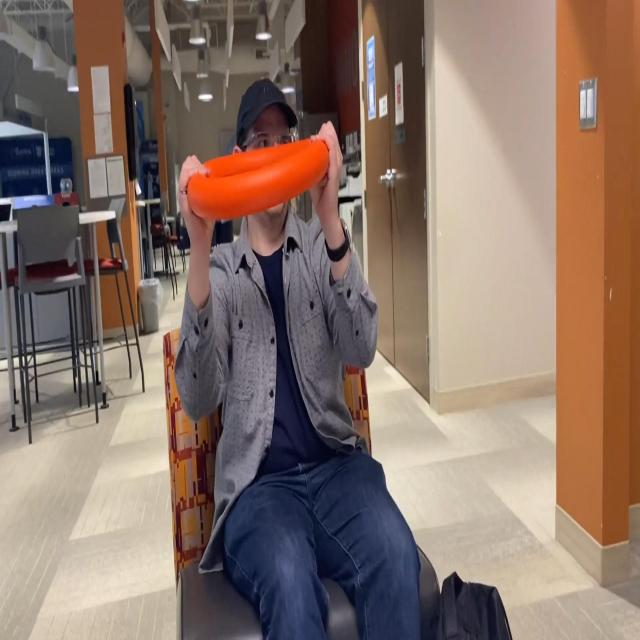note: (185, 132, 333, 224)
